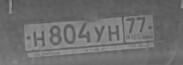license-plateSW: (23, 14, 158, 53)
